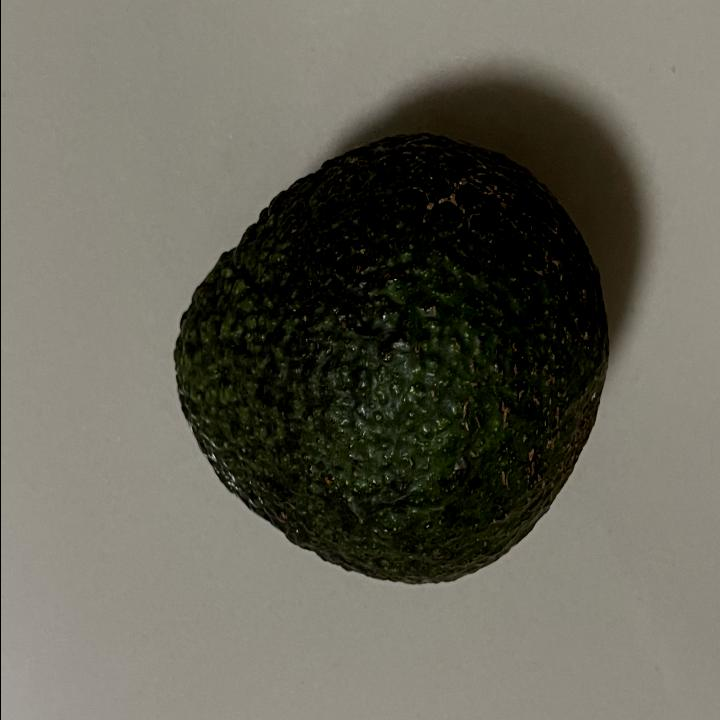Level1: (159, 122, 616, 600)
